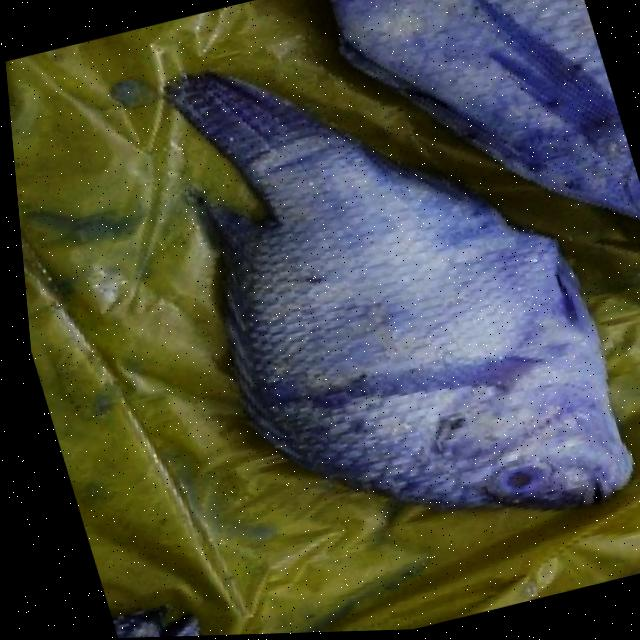Non-Fresh: (208, 138, 640, 582)
